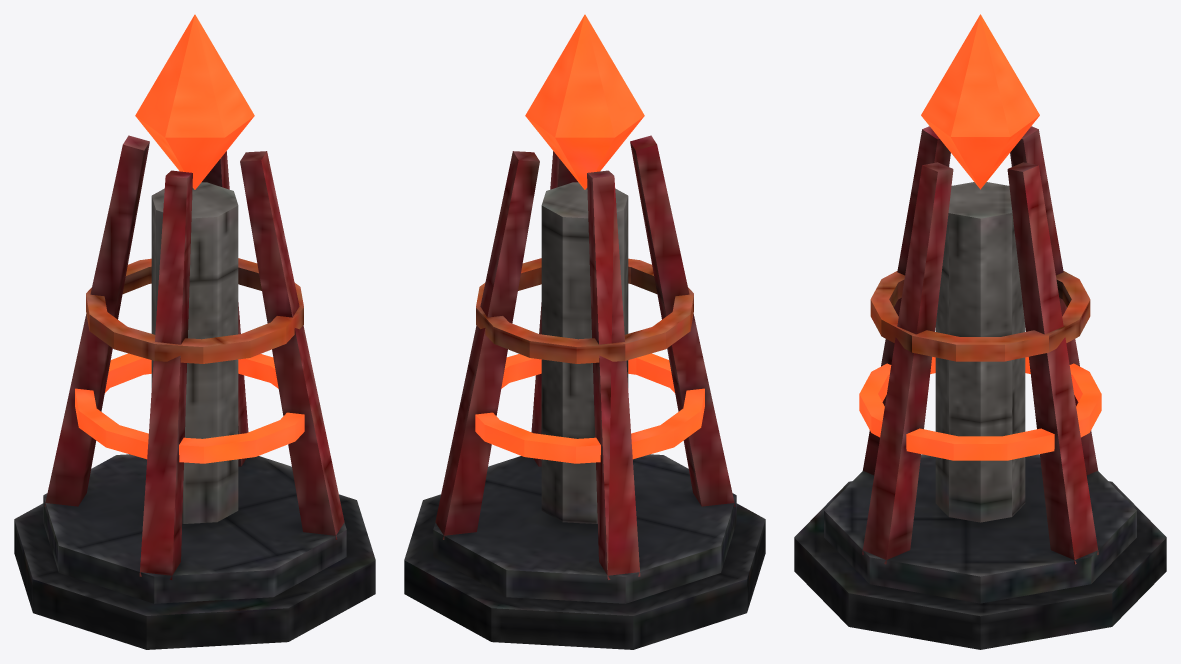
File: u_pulsar1_e.glb
3 views of the same model, side by side, from view 1: azimuth 30°, elevation 25°; view 2: azimuth 150°, elevation 25°; view 3: azimuth 270°, elevation 25° (orthographic).
Visible parts, largest first — view 1: u_pulsar1_e; view 2: u_pulsar1_e; view 3: u_pulsar1_e.
Boxes of the visible parts, x1,y1,x2,y2 form: u_pulsar1_e: (14, 14, 375, 649); u_pulsar1_e: (404, 14, 765, 649); u_pulsar1_e: (794, 14, 1166, 649).
Bounding box in the file's own units: 1 × 1.65 × 1.
1 material, 1 textured.
